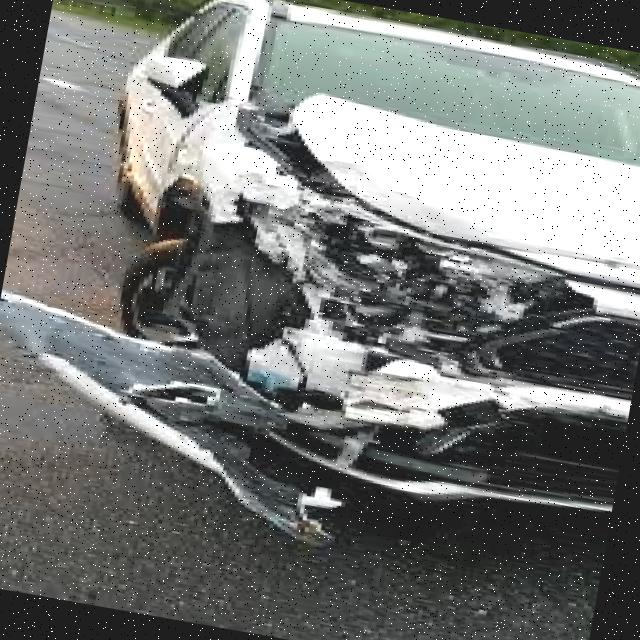Severe Damage: (80, 66, 602, 608)
